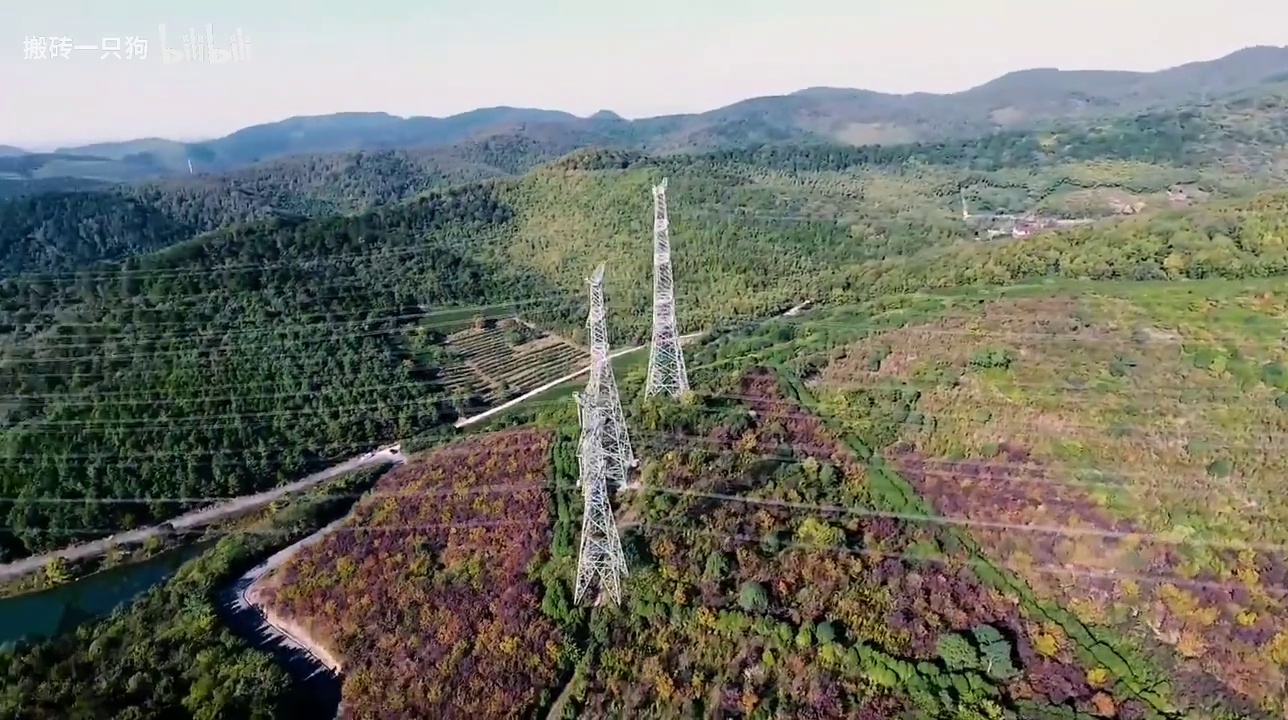tower_body: (560, 345, 647, 616), (638, 175, 708, 405)
tower_foot: (568, 535, 636, 608), (642, 350, 697, 398)
